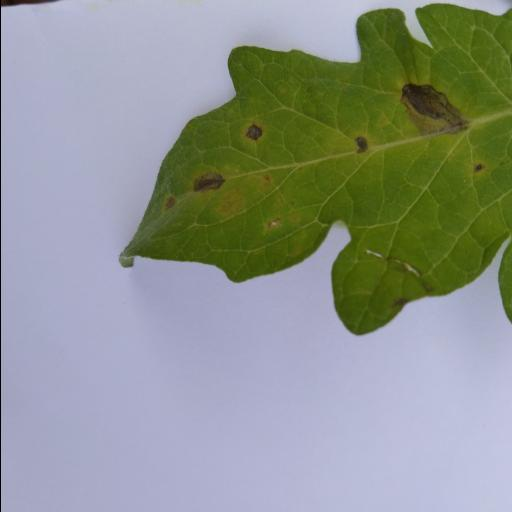disease_tomato: (118, 2, 512, 336)
